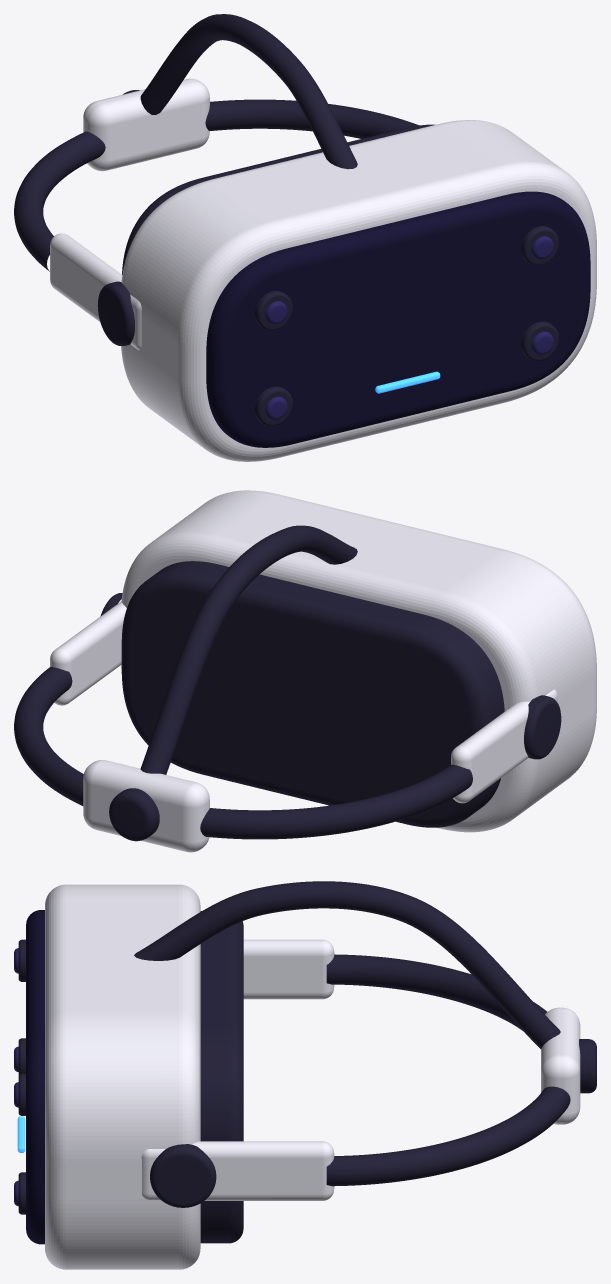
The model's file is visor-realidad-virtual.glb.
The picture shows the model from 3 angles, top to bottom: view 1: azimuth 30°, elevation 25°; view 2: azimuth 150°, elevation 25°; view 3: azimuth 270°, elevation 25°; orthographic projection. The views are drawn at different scales.
Bounding box in the file's own units: 3.44 × 2.31 × 3.86.
